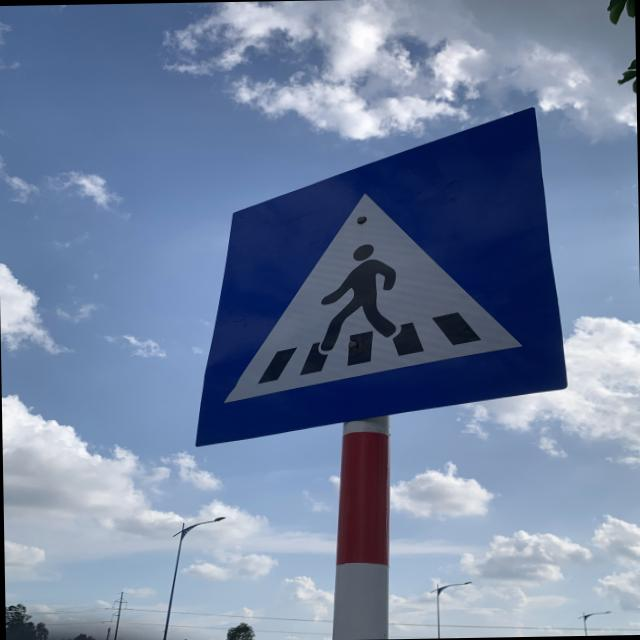Giao_Nhau_Duong_Uu_Tien: (189, 108, 570, 444)
